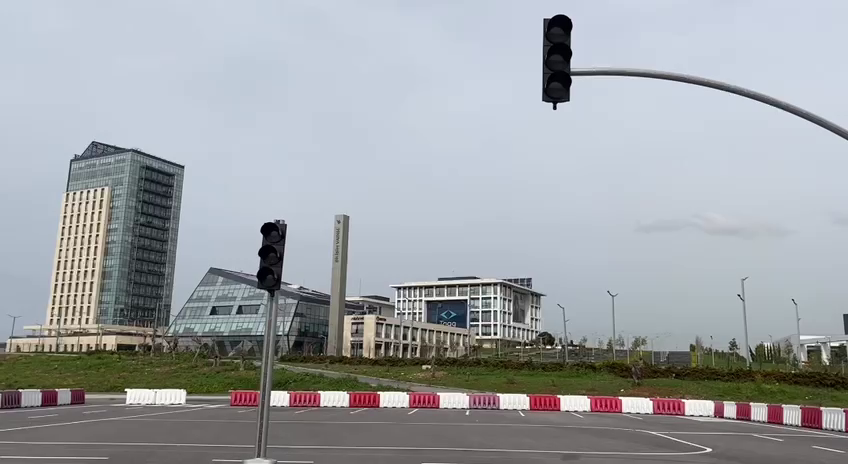trafficLight: (536, 10, 576, 114), (251, 216, 291, 299)
